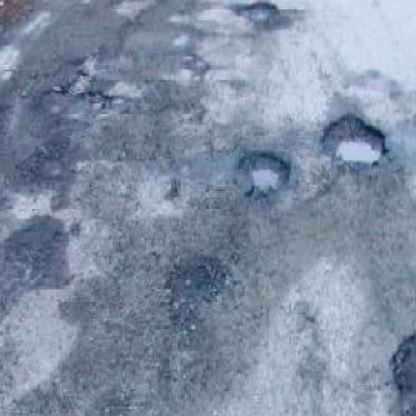pothole: (6, 214, 68, 287), (319, 108, 389, 166), (162, 253, 226, 306), (237, 142, 293, 199), (17, 137, 71, 184), (388, 330, 416, 391), (228, 0, 278, 23), (85, 88, 111, 112), (65, 68, 89, 93)
